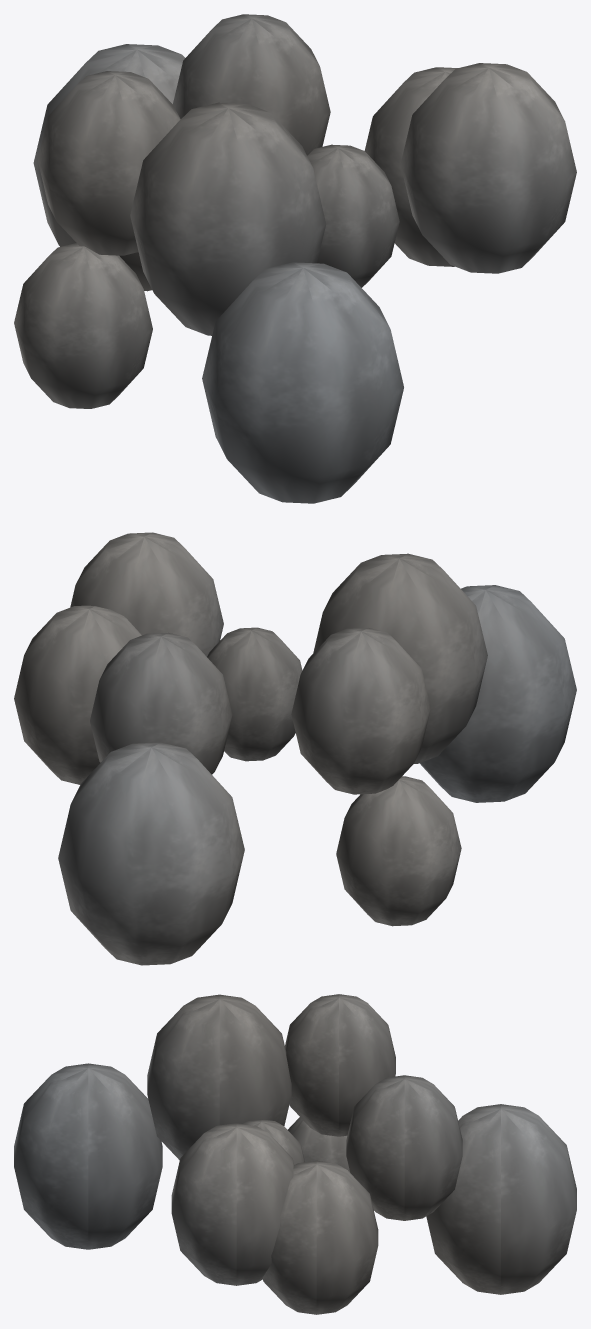
File: bulb_tree_l0.gltf
3 views of the same model, one above another, from view 1: azimuth 30°, elevation 25°; view 2: azimuth 150°, elevation 25°; view 3: azimuth 270°, elevation 25° (orthographic). The views are drawn at different scales.
Visible parts, largest first — view 1: bulb_tree_l0; view 2: bulb_tree_l0; view 3: bulb_tree_l0.
Boxes of the visible parts, x1,y1,x2,y2 form: bulb_tree_l0: [14, 14, 576, 503]; bulb_tree_l0: [14, 532, 576, 965]; bulb_tree_l0: [14, 994, 576, 1314].
Size of the model in its own units: 2.26 by 1.48 by 2.95.
Materials: 1 (1 with a texture image).
